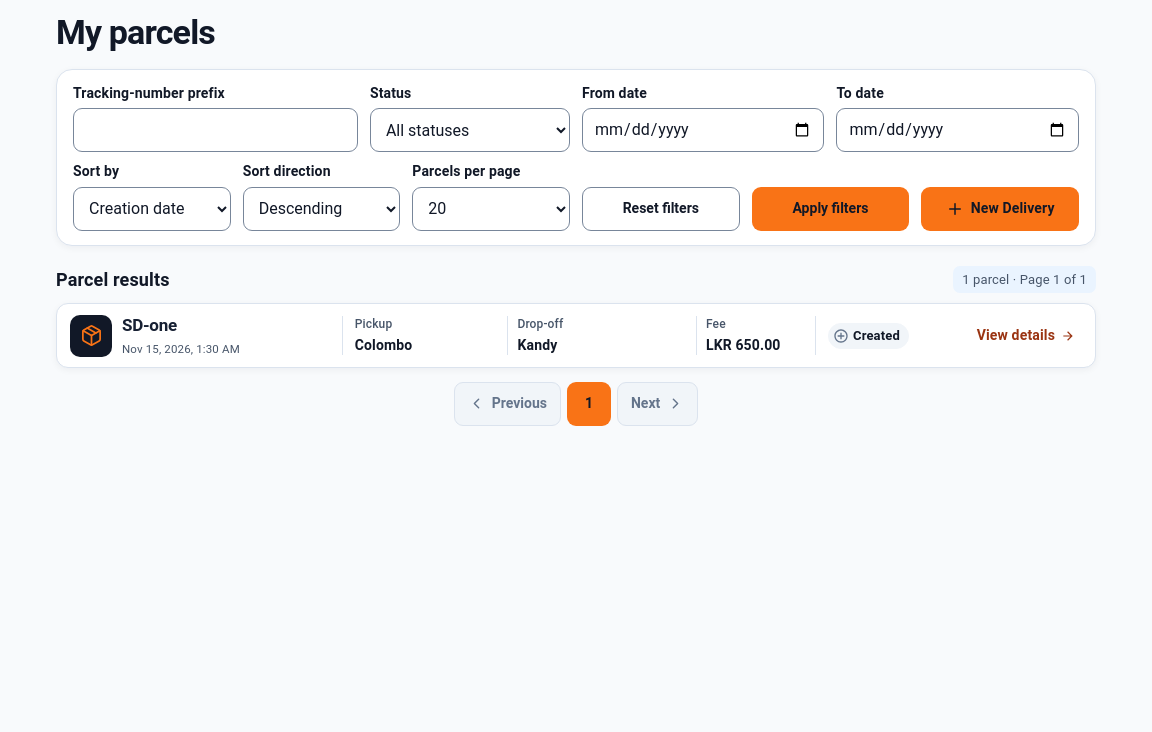
Test: TST-040 my parcels › clears old parcel data on authorization failure 401
Check: the link "SD-one" is shown, box left=122, top=316, right=177, bottom=336
What coordinates should you click on to do the following:
click the button "Apply filters"
I would click on:
 (831, 209)
Its box is left=752, top=187, right=909, bottom=231.
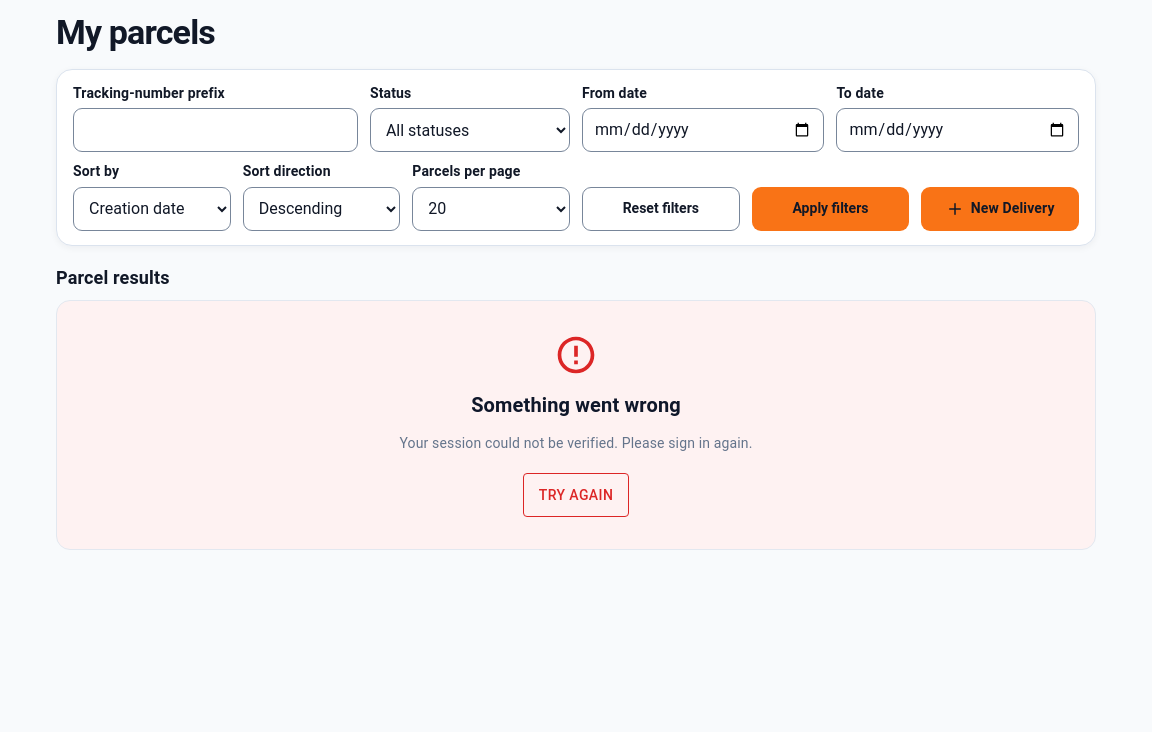
Check: the message is shown, box left=56, top=300, right=1096, bottom=550
Check: the link "SD-one" is gone
Check: the message shows "sign in again", box left=400, top=435, right=753, bottom=451
